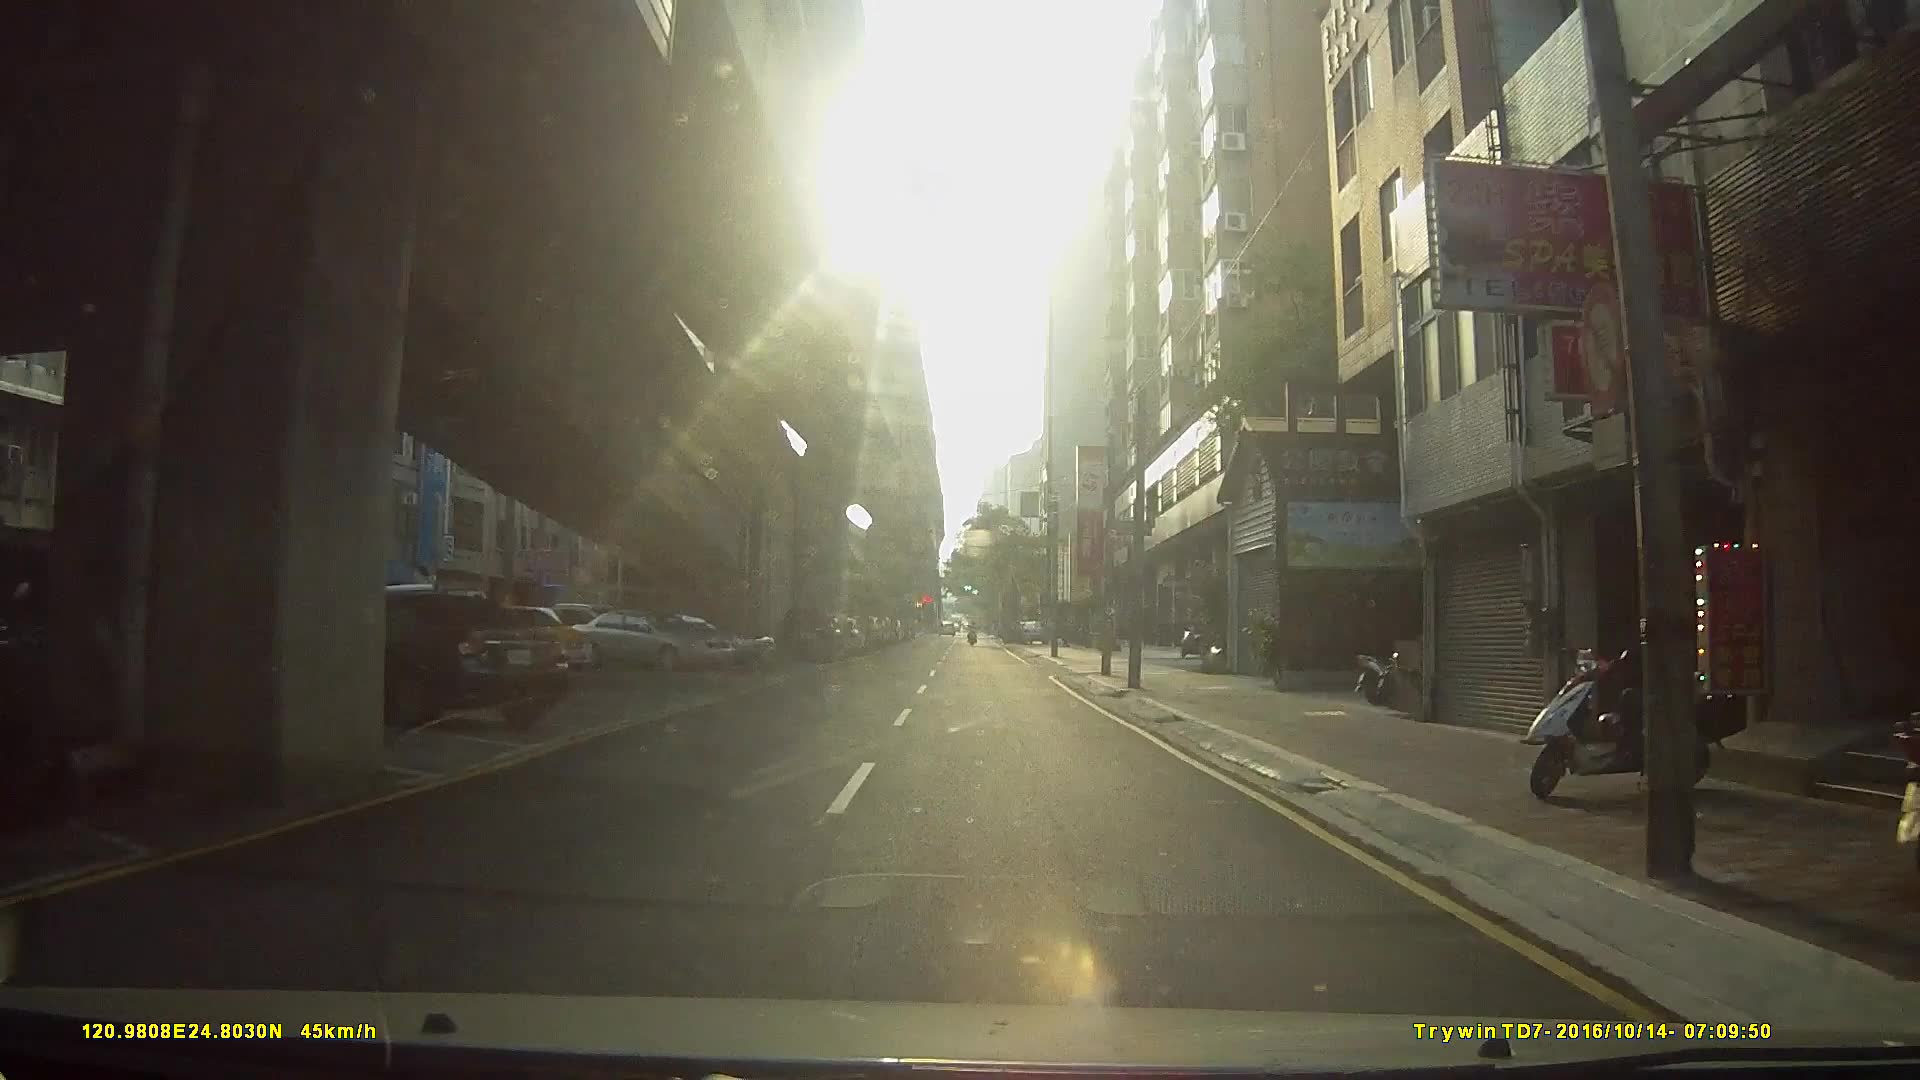vehicle: (311, 593, 575, 737), (564, 608, 738, 673), (775, 604, 843, 665)
